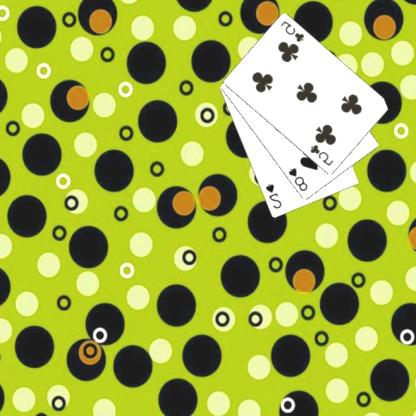2S: (264, 181, 284, 210)
5C: (280, 18, 308, 44), (309, 142, 336, 168)
8S: (287, 165, 311, 193)
